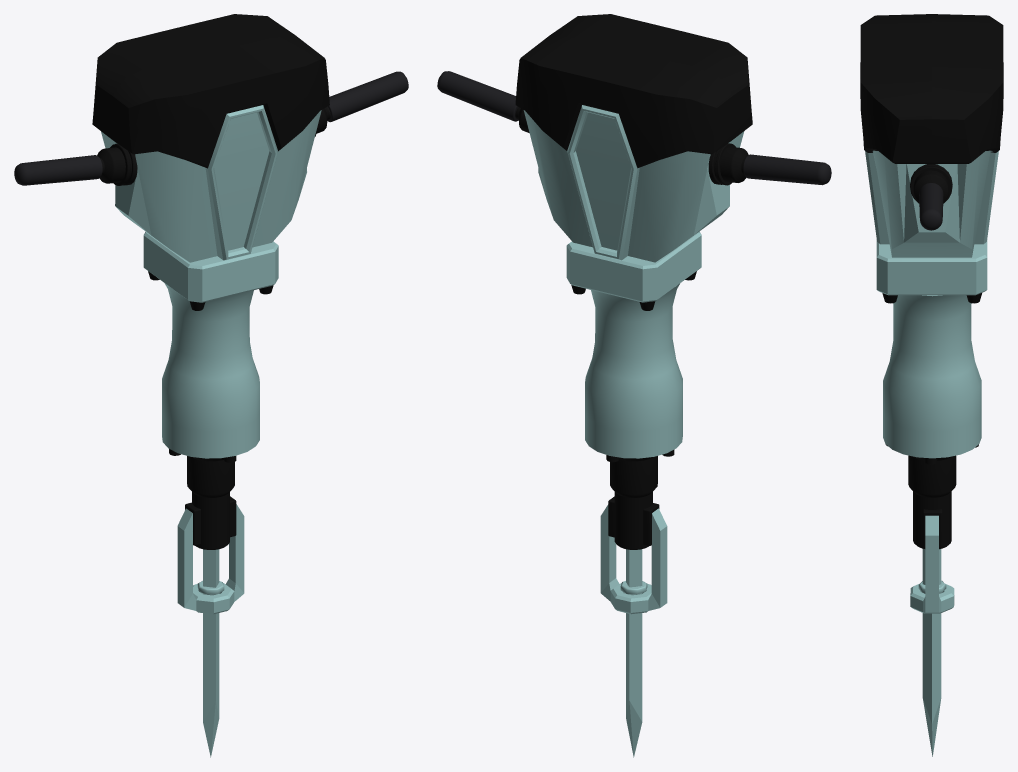
File: jacmhammer low poly.obj
3 renders of one model, left to right at view 1: azimuth 30°, elevation 25°; view 2: azimuth 150°, elevation 25°; view 3: azimuth 270°, elevation 25°, orthographic.
Visible parts, largest first — view 1: top6; view 2: top6; view 3: top6.
Boxes of the visible parts, box(x1,y1,x2,y2) form: top6: box(14, 14, 408, 757); top6: box(437, 14, 831, 757); top6: box(860, 14, 1003, 756).
Bounding box in the file's own units: 642 × 1113 × 204.
Materials: 1 (1 with a texture image).
